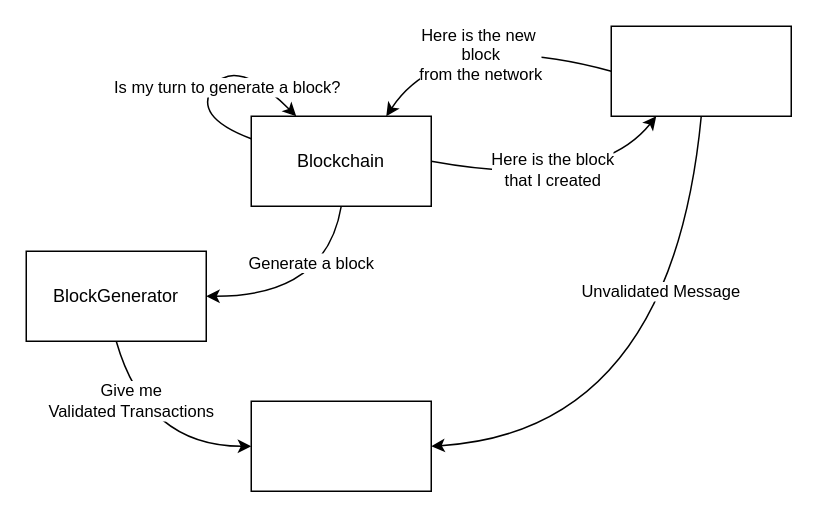
The diagram is 818 pixels wide and 519 high, and some of its shapes have lost their labels. The shapes that lost their labels are listed below. From the top down, each one's centre as x and y in pixels, then its label:
the point at 700,70: TcpServer
the point at 340,445: MemPool
